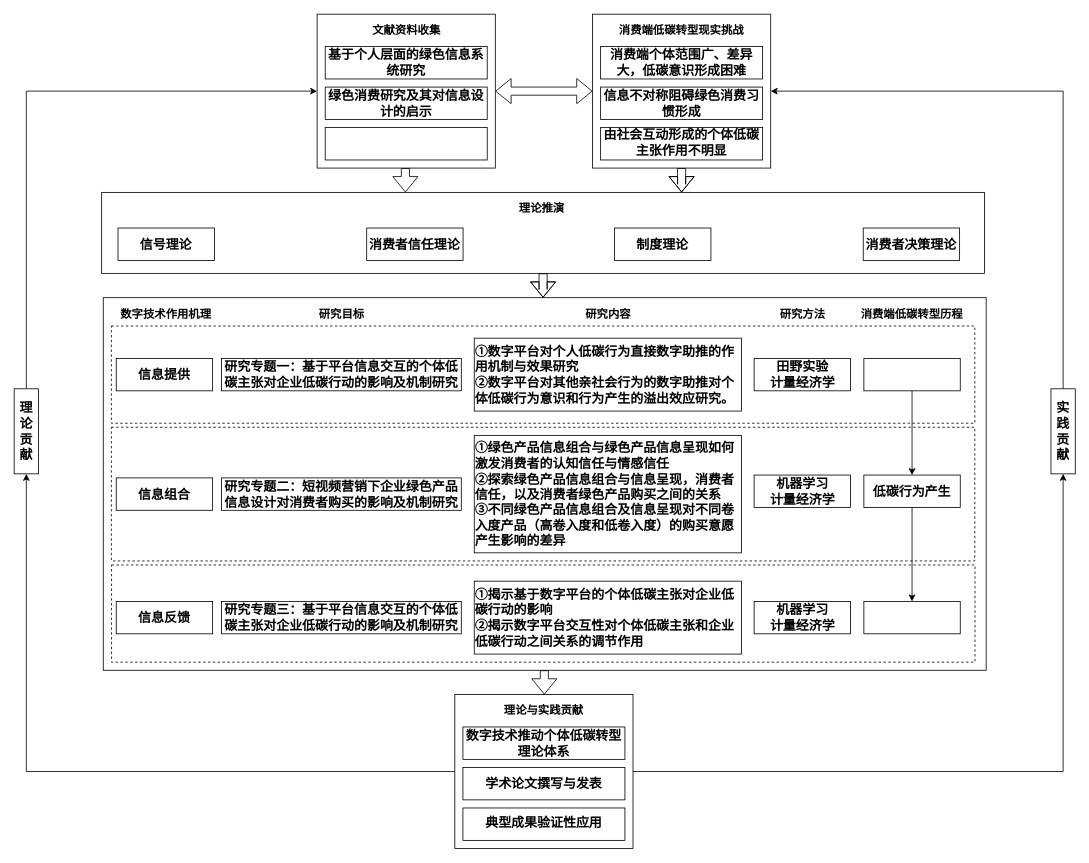
This 1089x863 diagram has some shape labels left out. Here are the shapes that lost their labels. From the top down, the box of each, then its label:
(324, 127, 487, 160): 基于数字平台的个体低碳主张表达
(863, 358, 960, 391): 低碳意识唤起
(863, 601, 960, 634): 拥护低碳主张
